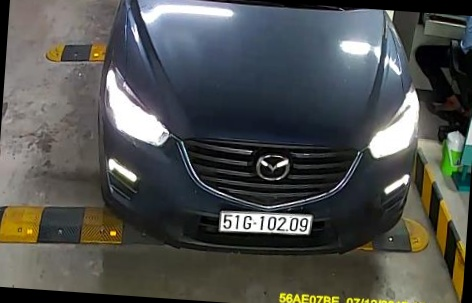plate: (208, 203, 319, 240)
